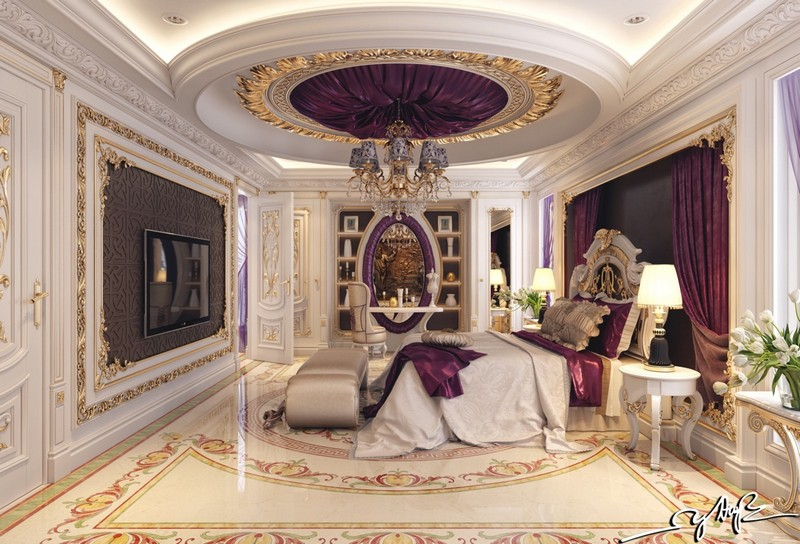bed: (405, 238, 656, 442)
chair: (343, 275, 390, 363)
door: (246, 186, 296, 368)
lamp: (636, 258, 684, 373), (528, 263, 558, 325)
stool: (616, 356, 707, 478), (281, 344, 371, 433)
